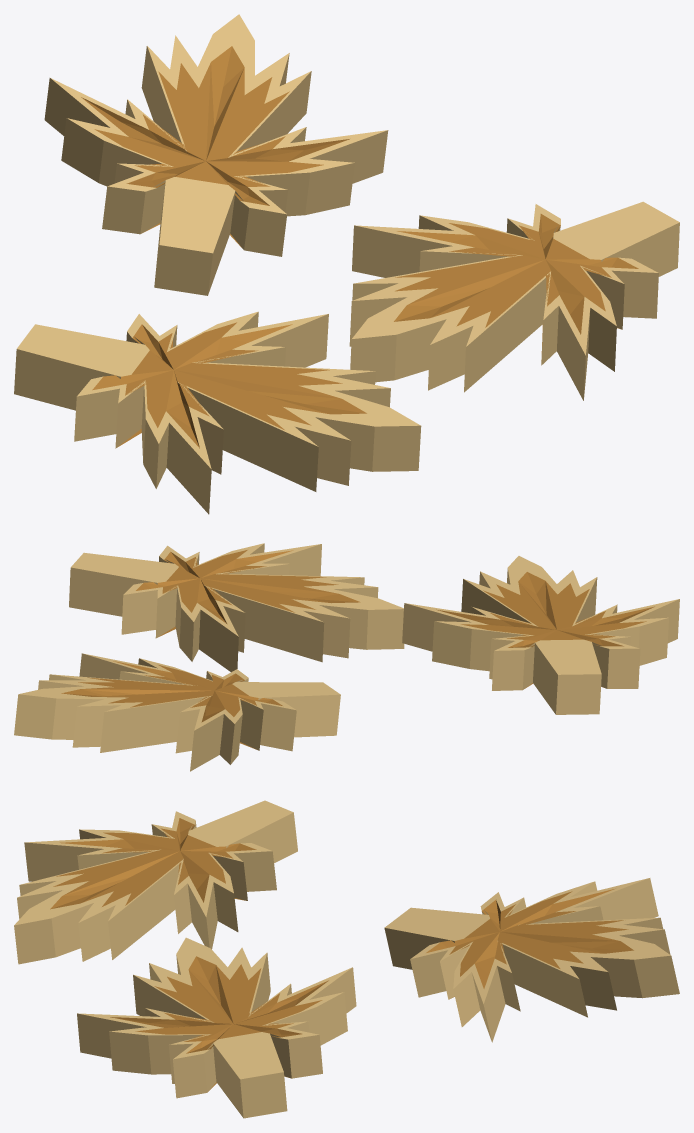
Rendered from maple.glb.
3 views of the same model, one above another, from view 1: azimuth 30°, elevation 25°; view 2: azimuth 150°, elevation 25°; view 3: azimuth 270°, elevation 25° (orthographic). The views are drawn at different scales.
Bounding box in the file's own units: 1.43 × 0.2599 × 1.54.
